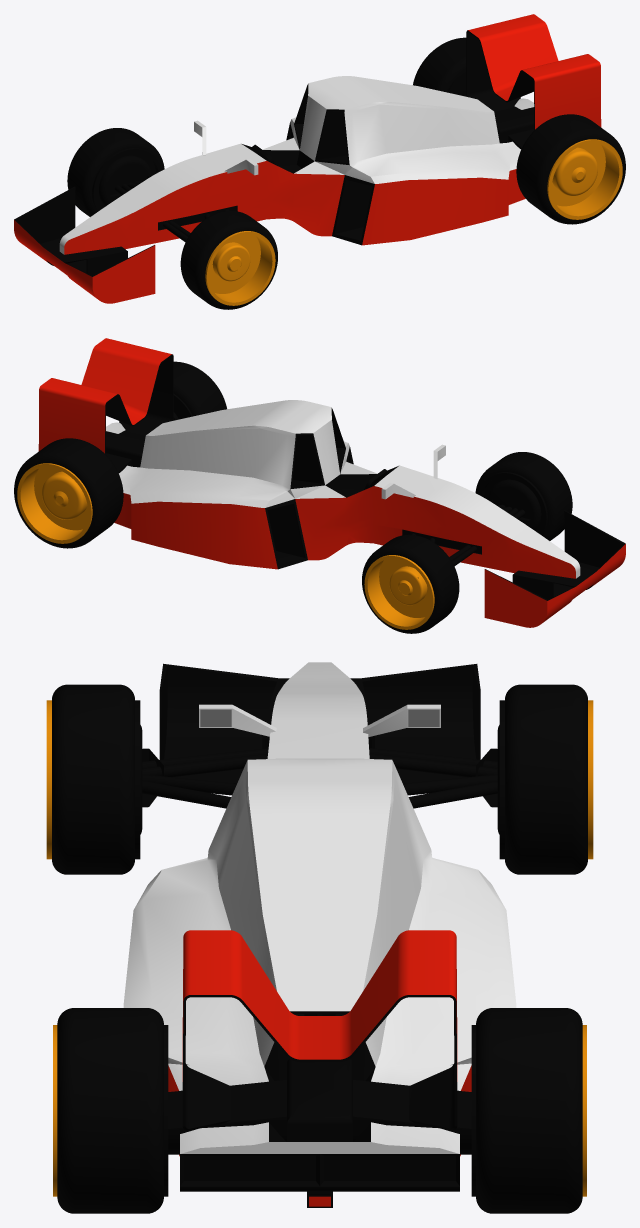
Rendered from 1787942137237_32809140-bolide-310.glb.
3 views of the same model, one above another, from view 1: azimuth 30°, elevation 25°; view 2: azimuth 150°, elevation 25°; view 3: azimuth 270°, elevation 25° (orthographic). The views are drawn at different scales.
Visible parts, largest first — view 1: Cube.002, Cylinder.001, Cylinder; view 2: Cube.002, Cylinder.001, Cylinder; view 3: Cube.002, Cylinder, Cylinder.001.
Part boxes in pixels (x1=…): Cube.002: x1=14, y1=14, x2=601, y2=303; Cylinder.001: x1=67, y1=128, x2=277, y2=309; Cylinder: x1=413, y1=37, x2=625, y2=224; Cube.002: x1=38, y1=338, x2=625, y2=627; Cylinder.001: x1=362, y1=452, x2=572, y2=633; Cylinder: x1=14, y1=361, x2=226, y2=548; Cube.002: x1=123, y1=662, x2=516, y2=1207; Cylinder: x1=53, y1=1008, x2=586, y2=1213; Cylinder.001: x1=46, y1=684, x2=593, y2=874.
Bounding box in the file's own units: 4.42 × 1.05 × 2.04.
